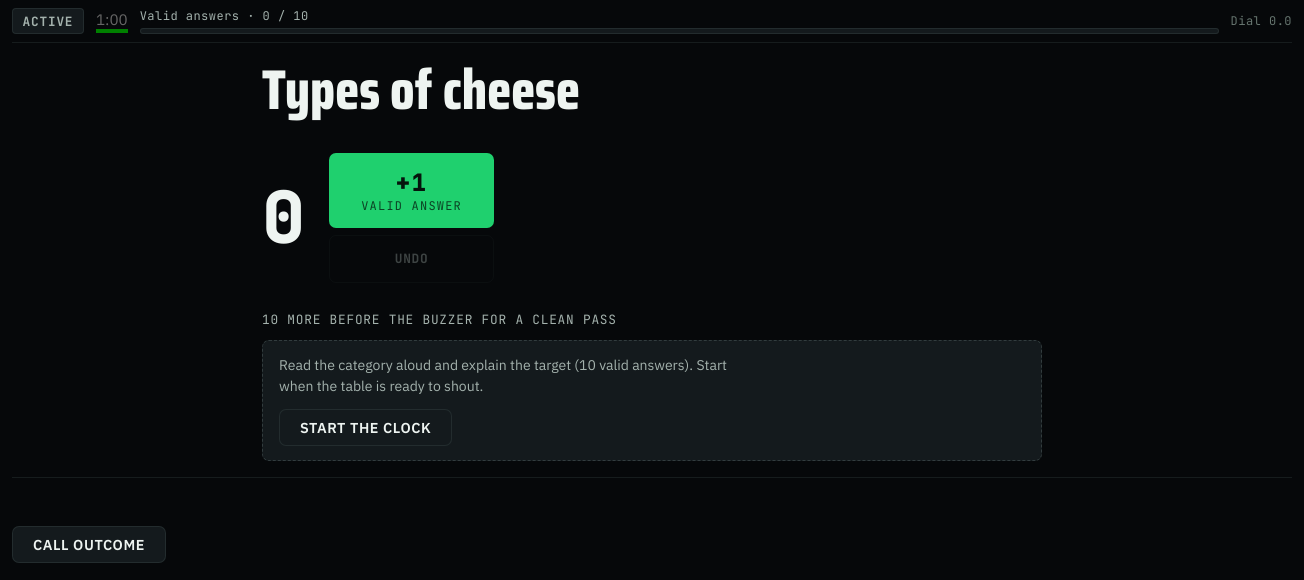
Test: CategoriesComponent — tally controls › +1 button increments the tally
What coordinates should you click on to do the following:
click the button with test id "tally-increment"
I would click on:
 (412, 190)
Its box is [329,153,494,228].
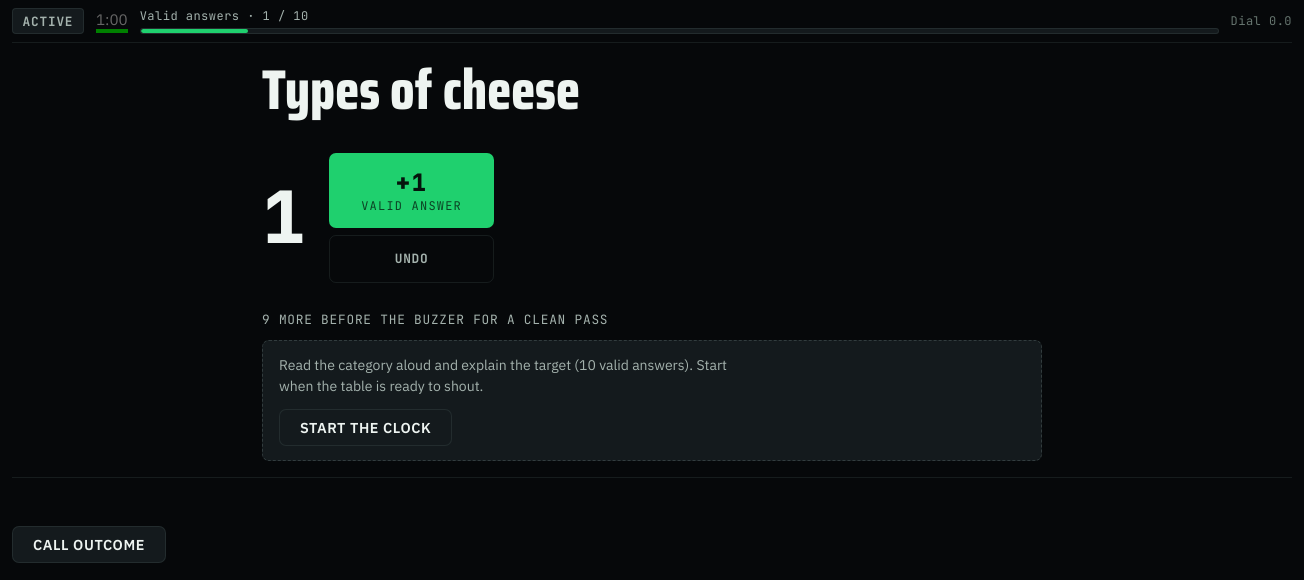
expect the text with test id "tally-count" reads "1": met, box [262,170,305,265]
